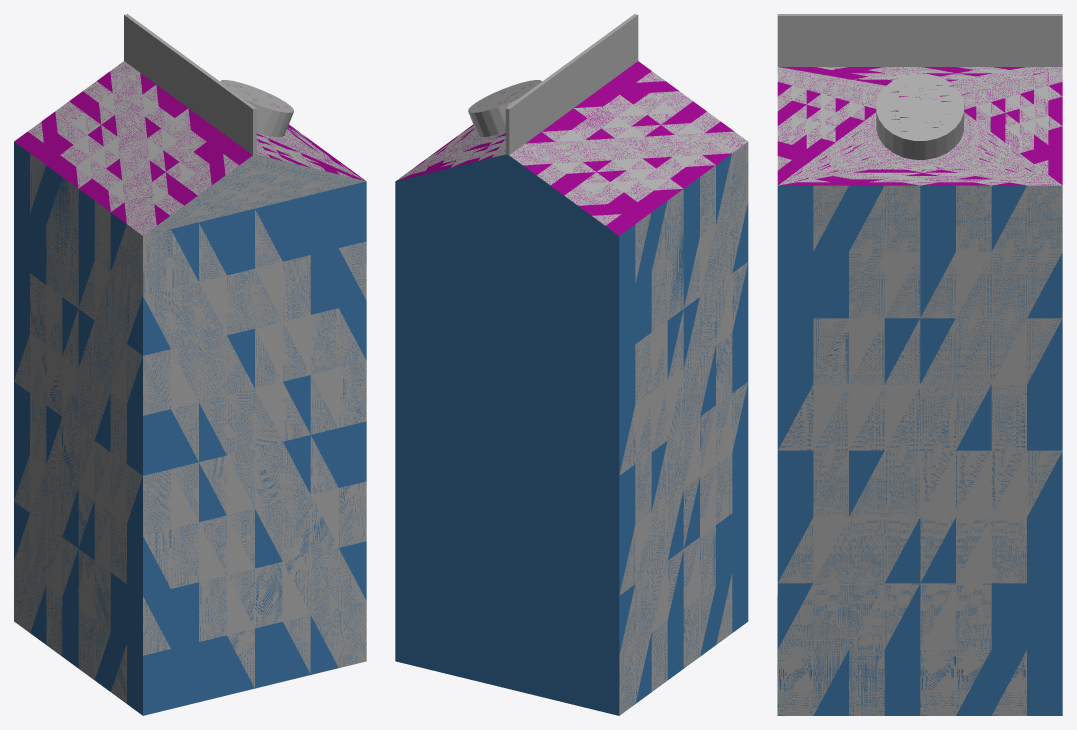
File: tetrapak_sketchup.dae
The picture shows the model from 3 angles, left to right: view 1: azimuth 30°, elevation 25°; view 2: azimuth 150°, elevation 25°; view 3: azimuth 270°, elevation 25°; orthographic projection. The views are drawn at different scales.
Visible parts, largest first — view 1: SketchUp_002; view 2: SketchUp_002; view 3: SketchUp_002.
Boxes of the visible parts, x1,y1,x2,y2 form: SketchUp_002: [14, 14, 366, 715]; SketchUp_002: [395, 14, 748, 715]; SketchUp_002: [777, 14, 1062, 715].
Bounding box in the file's own units: 0.0968 × 0.0968 × 0.2397.
